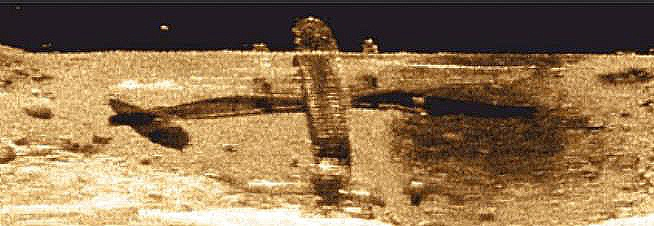aircraft: (159, 16, 500, 194)
